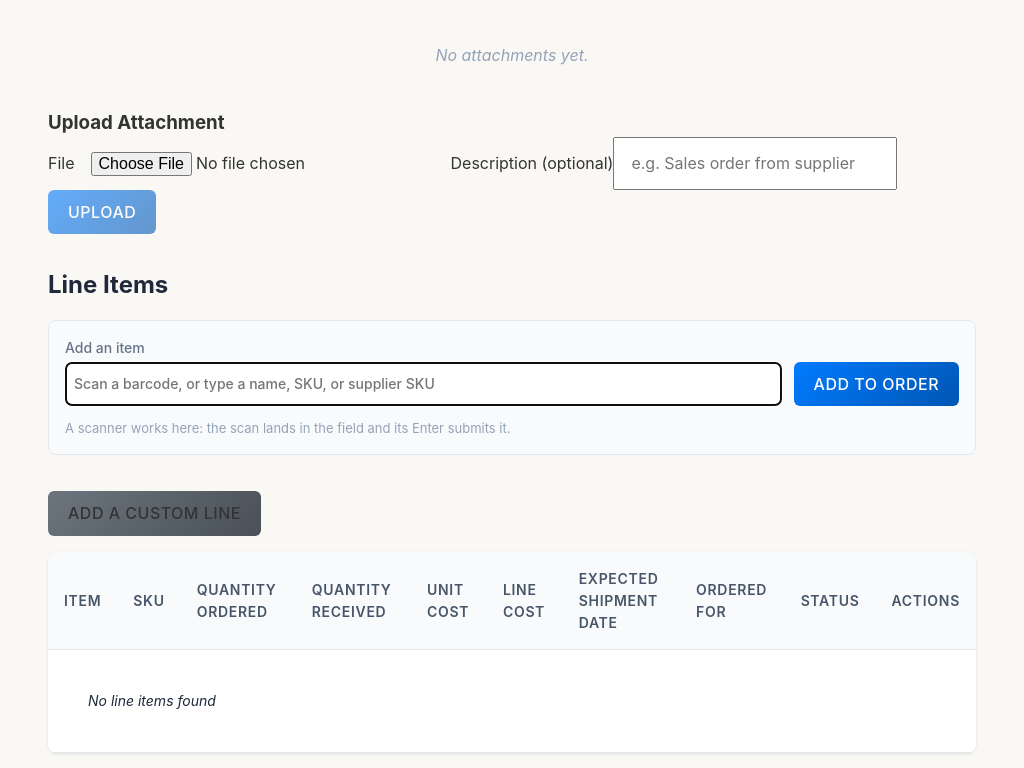
PurchaseOrderPage — adding a line to a draft order › a refused custom line leaves the scan field’s choose-one set standing
The width and height of the screenshot is (1024, 768).
(page scrolled)
Type "M3 hex" into the field labelled "Add an item" at [423, 384], box 65,362 -> 782,406
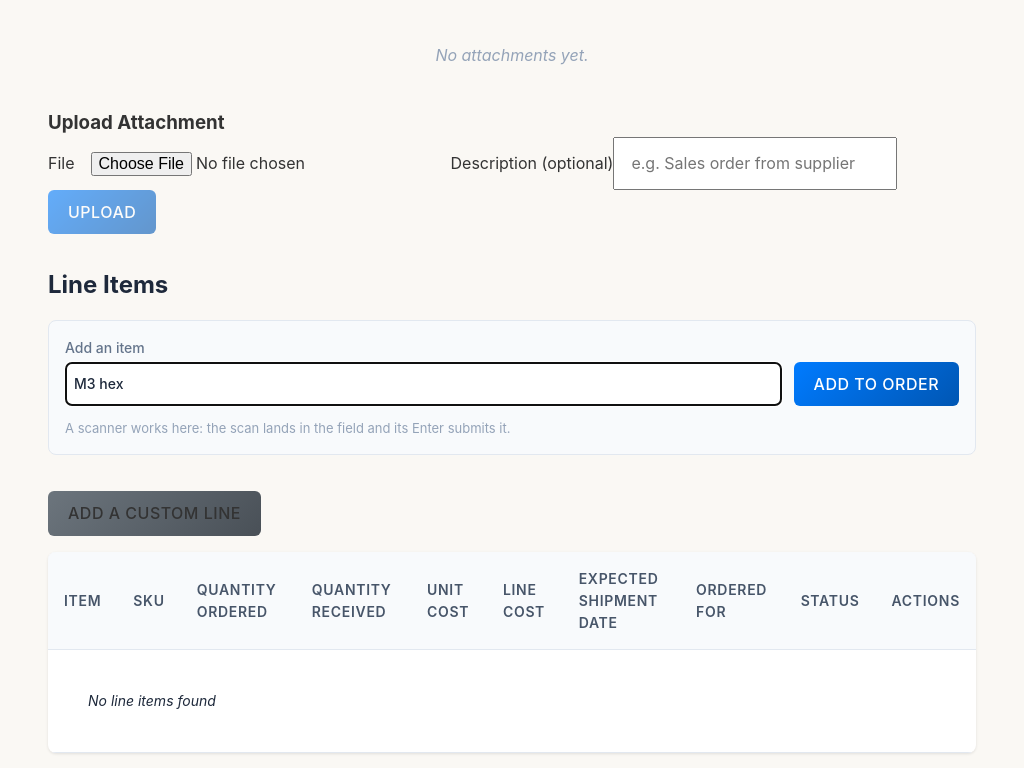
Submit the form labelled "Add an item", box 48,320 -> 976,455
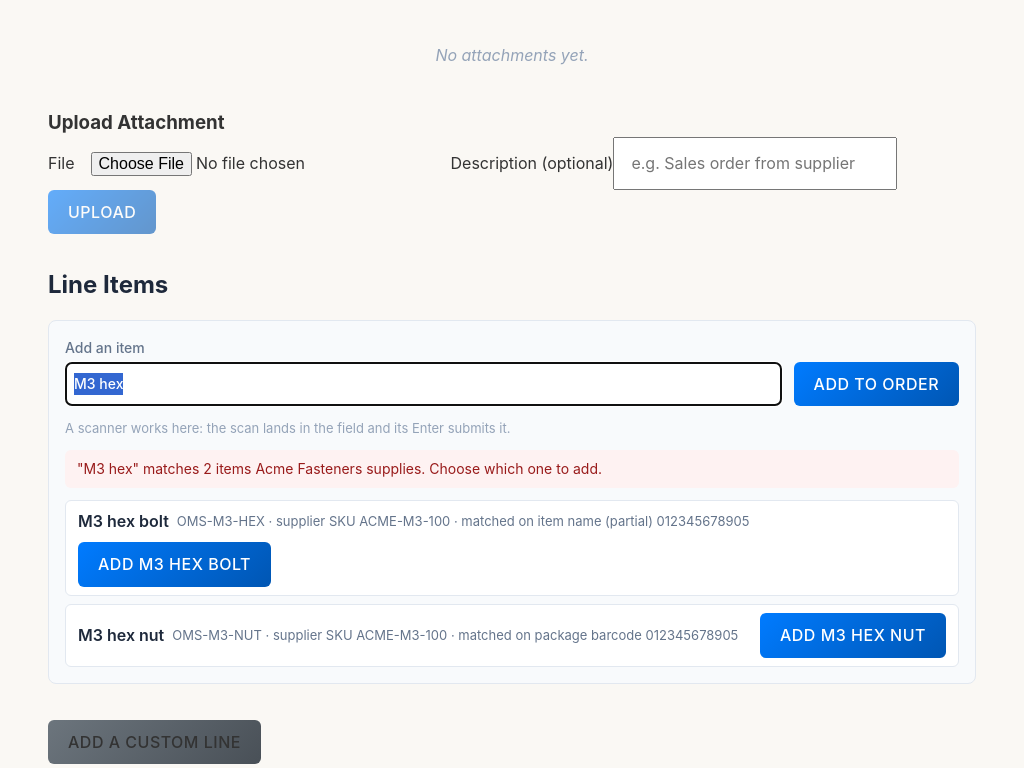
Expected: the button "Add M3 hex nut" is shown, 760,613 -> 946,658
Click the button "Add a custom line" at [154, 742], box 48,720 -> 261,764
(page scrolled)
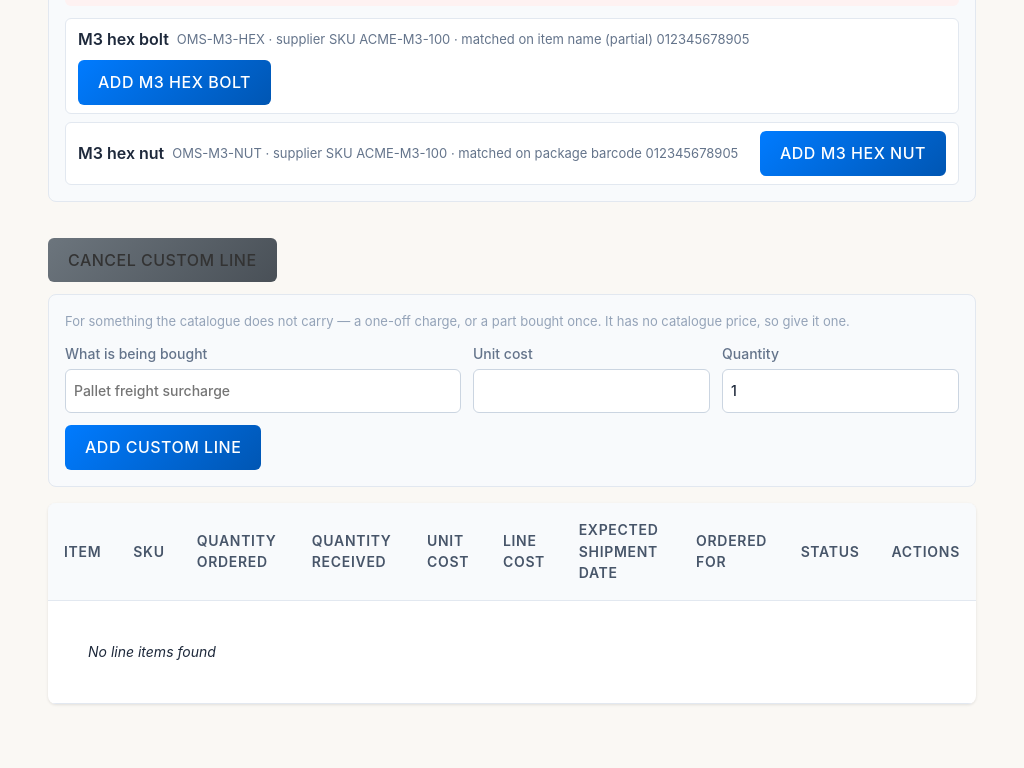
Submit the form named "add custom line", box 48,294 -> 976,487
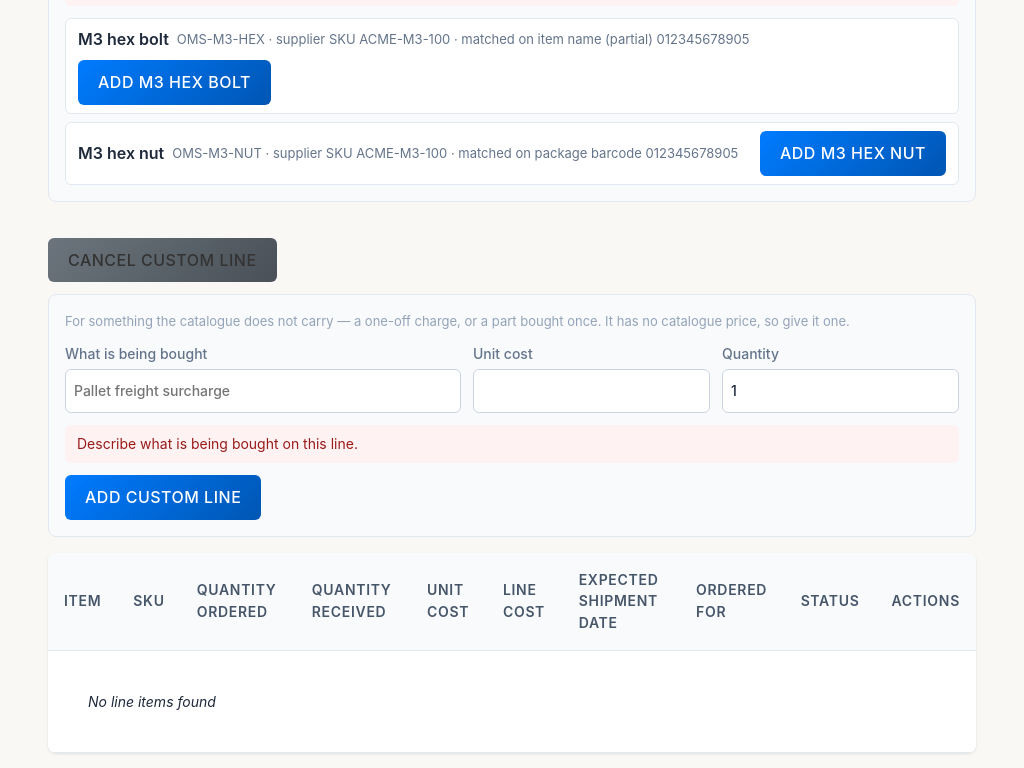
Expected: the button "Add M3 hex nut" is shown, 760,131 -> 946,176
Expected: the button "Add M3 hex bolt" is shown, 78,60 -> 271,105
Expected: the message "Describe what is being bought on this line." is shown, 65,425 -> 959,463
